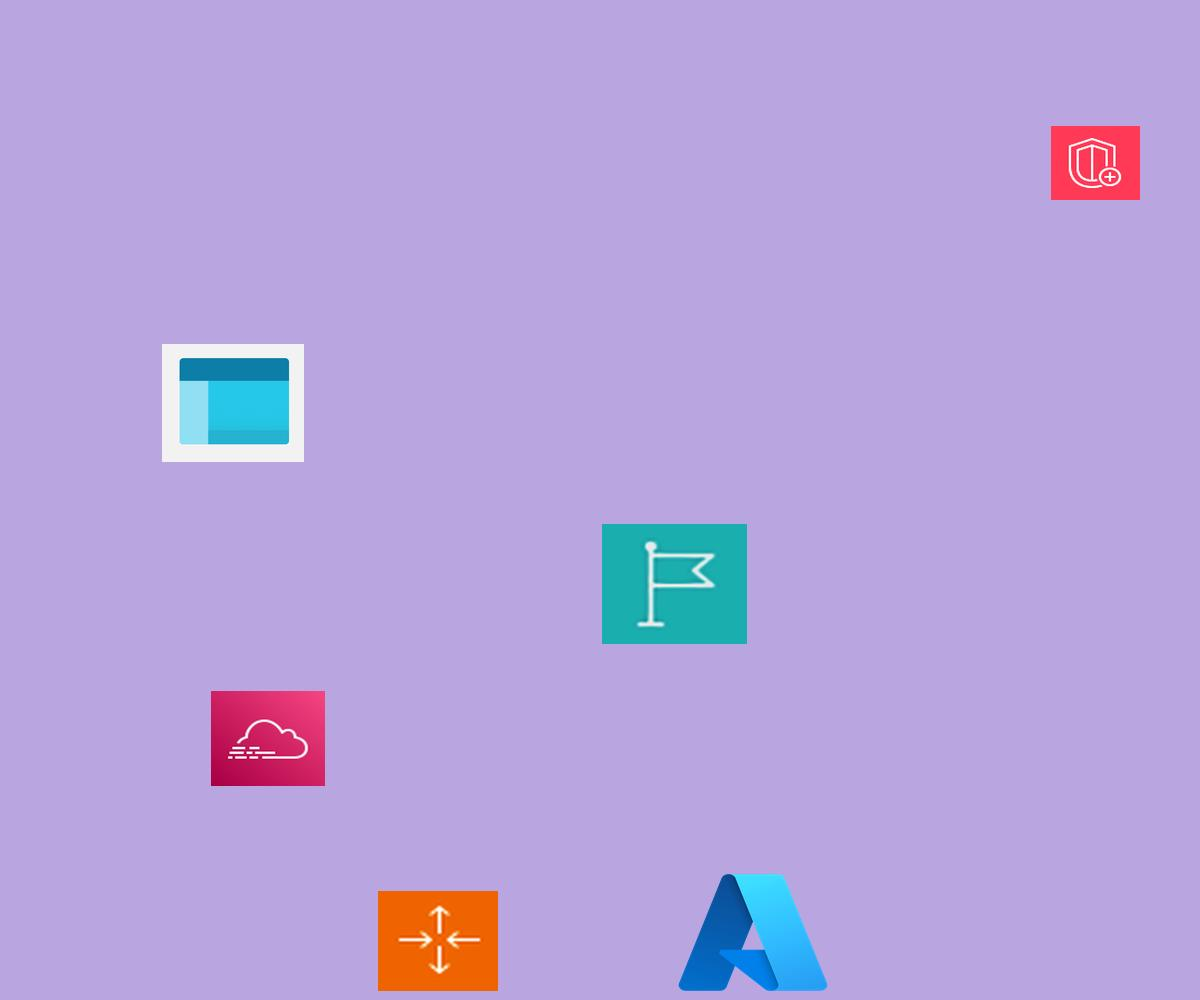AWS-CloudTrail: (211, 691, 325, 786)
AWS-Region: (602, 524, 747, 644)
AWS-Scaling-group: (378, 891, 498, 991)
AWS-Shield: (1051, 126, 1140, 200)
Azure_management-portal: (162, 344, 304, 462)
Azure_services: (672, 865, 834, 1000)
